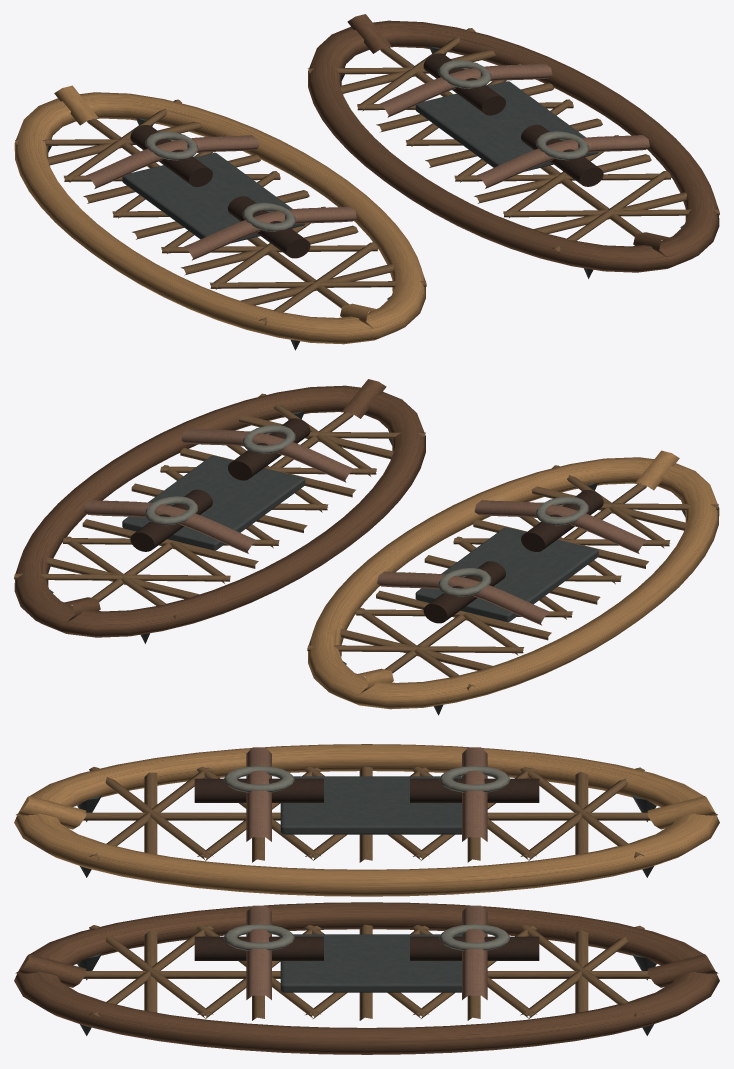
The model's file is snowshoe_pair.glb.
The picture shows the model from 3 angles, top to bottom: view 1: azimuth 30°, elevation 25°; view 2: azimuth 150°, elevation 25°; view 3: azimuth 270°, elevation 25°; orthographic projection. The views are drawn at different scales.
Visible parts, largest first — view 1: snowshoe_pair; view 2: snowshoe_pair; view 3: snowshoe_pair.
Part boxes in pixels (box(x1,y1,x2,y2)): snowshoe_pair: box(14, 14, 719, 350); snowshoe_pair: box(14, 379, 719, 715); snowshoe_pair: box(14, 744, 719, 1054).
Size of the model in its own units: 1.3 by 0.15 by 1.3.
Materials: 1 (1 with a texture image).
